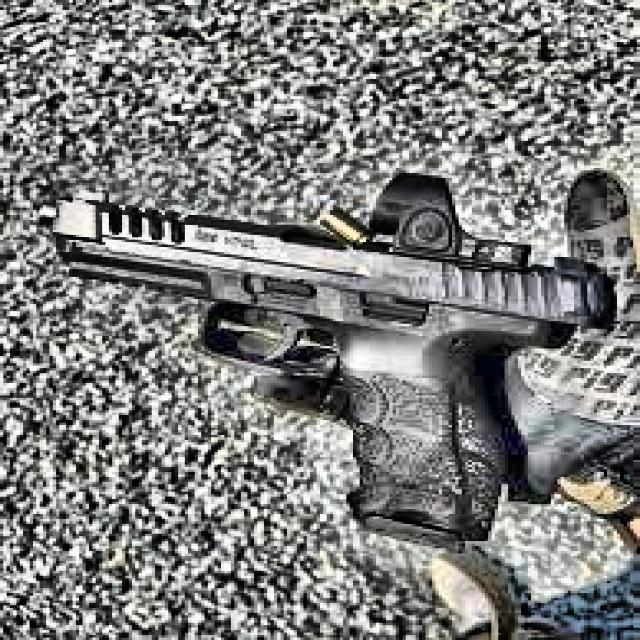HKVP9: (50, 170, 621, 560)
